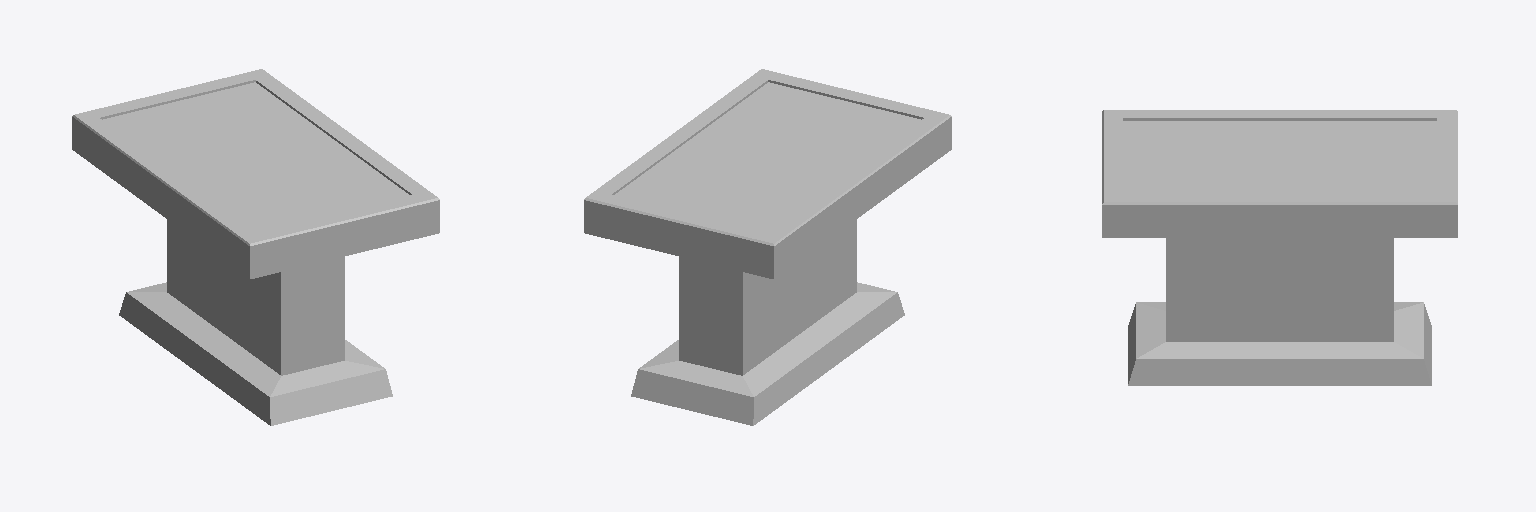
Rendered from table.obj.
3 views of the same model, side by side, from view 1: azimuth 30°, elevation 25°; view 2: azimuth 150°, elevation 25°; view 3: azimuth 270°, elevation 25° (orthographic).
Parts seen in each view (by area): view 1: Cube; view 2: Cube; view 3: Cube.
Boxes of the visible parts, x1=… form: Cube: x1=72, y1=69, x2=439, y2=425; Cube: x1=584, y1=69, x2=951, y2=425; Cube: x1=1102, y1=110, x2=1457, y2=385.
Bounding box in the file's own units: 2 × 2 × 3.24.